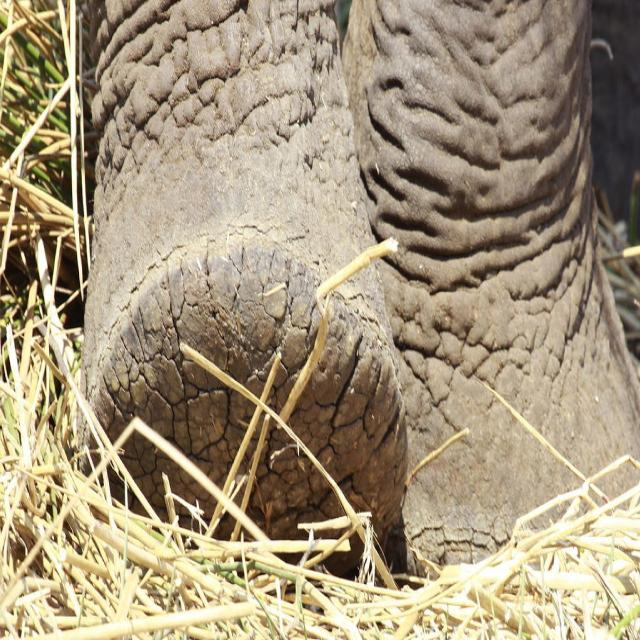Elephant: (65, 4, 623, 574)
